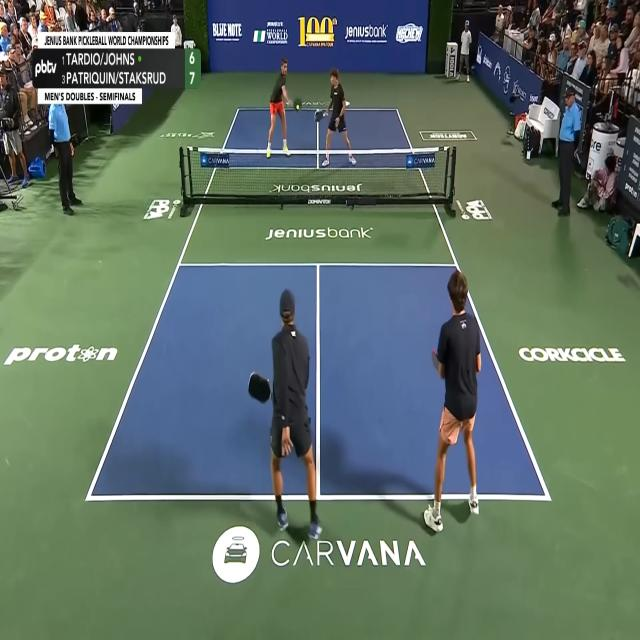ball: (296, 104, 300, 111)
